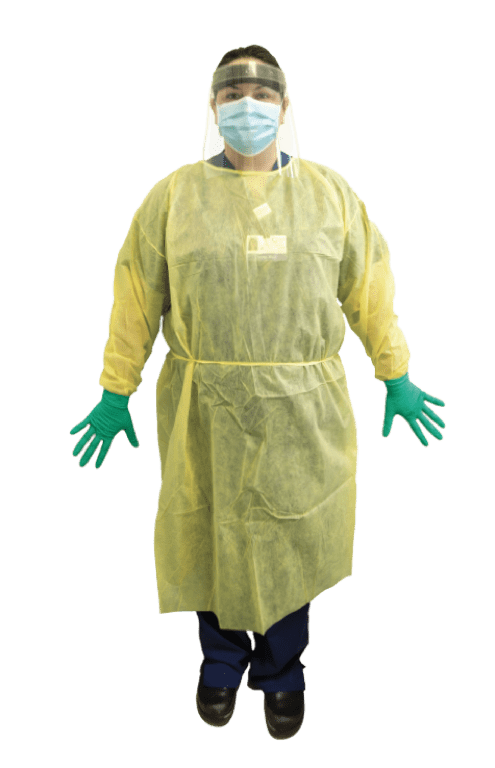glove: (70, 389, 139, 470), (382, 375, 446, 449)
